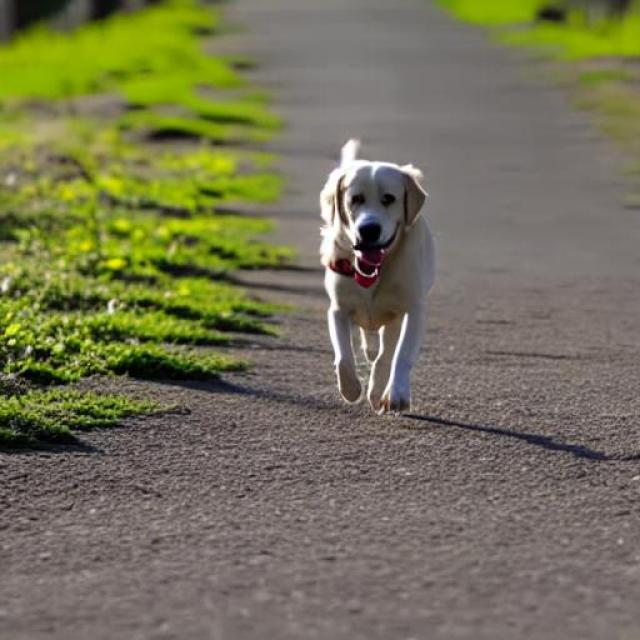Dog: (318, 138, 436, 413)
